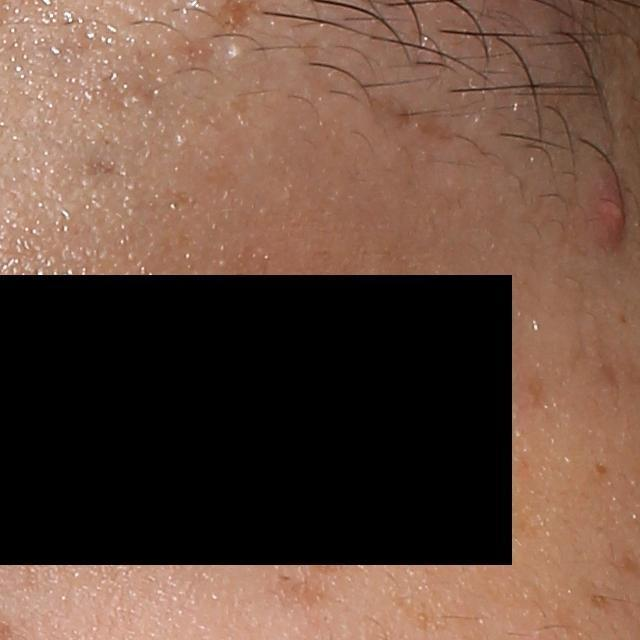melasma: (96, 14, 218, 142), (268, 574, 334, 616), (386, 596, 448, 639), (78, 150, 140, 192), (525, 364, 550, 422), (599, 355, 615, 401)
